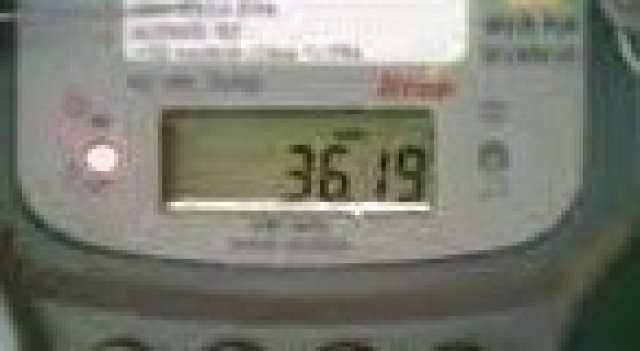box: (163, 108, 433, 207)
